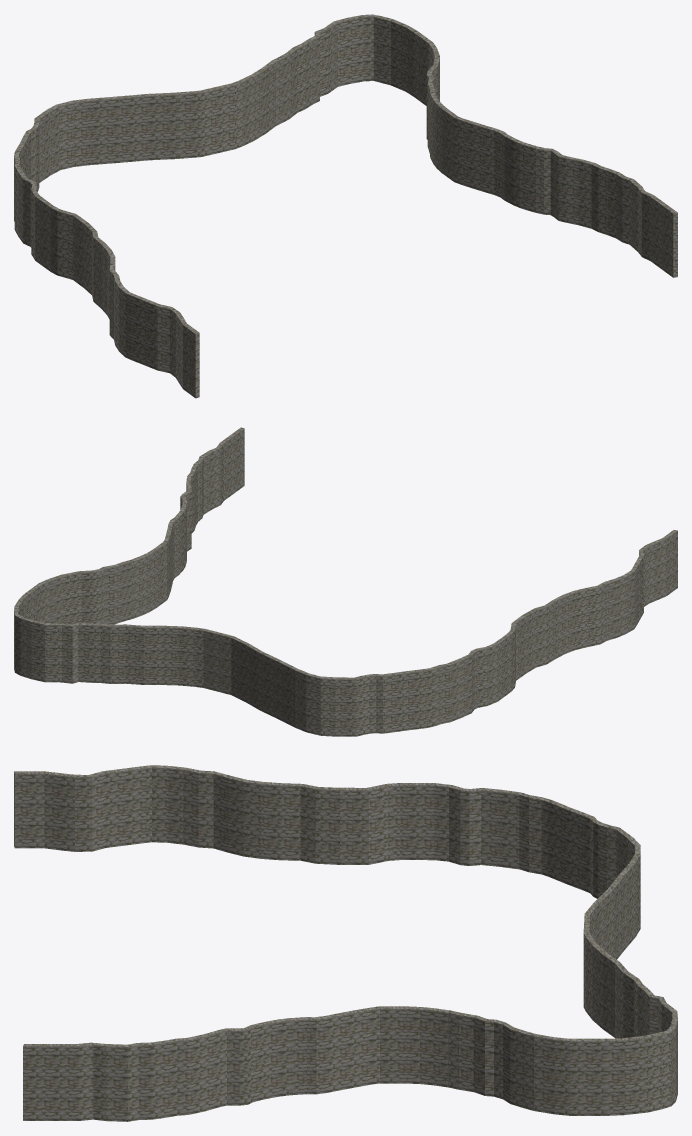
Rendered from EdgePlatformBottom.fbx.
The picture shows the model from 3 angles, top to bottom: view 1: azimuth 30°, elevation 25°; view 2: azimuth 150°, elevation 25°; view 3: azimuth 270°, elevation 25°; orthographic projection. The views are drawn at different scales.
Parts seen in each view (by area): view 1: EdgePlatformBottom; view 2: EdgePlatformBottom; view 3: EdgePlatformBottom.
Boxes of the visible parts, left/top/right/bottom form: EdgePlatformBottom: left=14, top=14, right=677, bottom=398; EdgePlatformBottom: left=14, top=427, right=677, bottom=736; EdgePlatformBottom: left=14, top=765, right=677, bottom=1121.
Size of the model in its own units: 5666 by 700 by 5638.
Materials: 1 (1 with a texture image).
